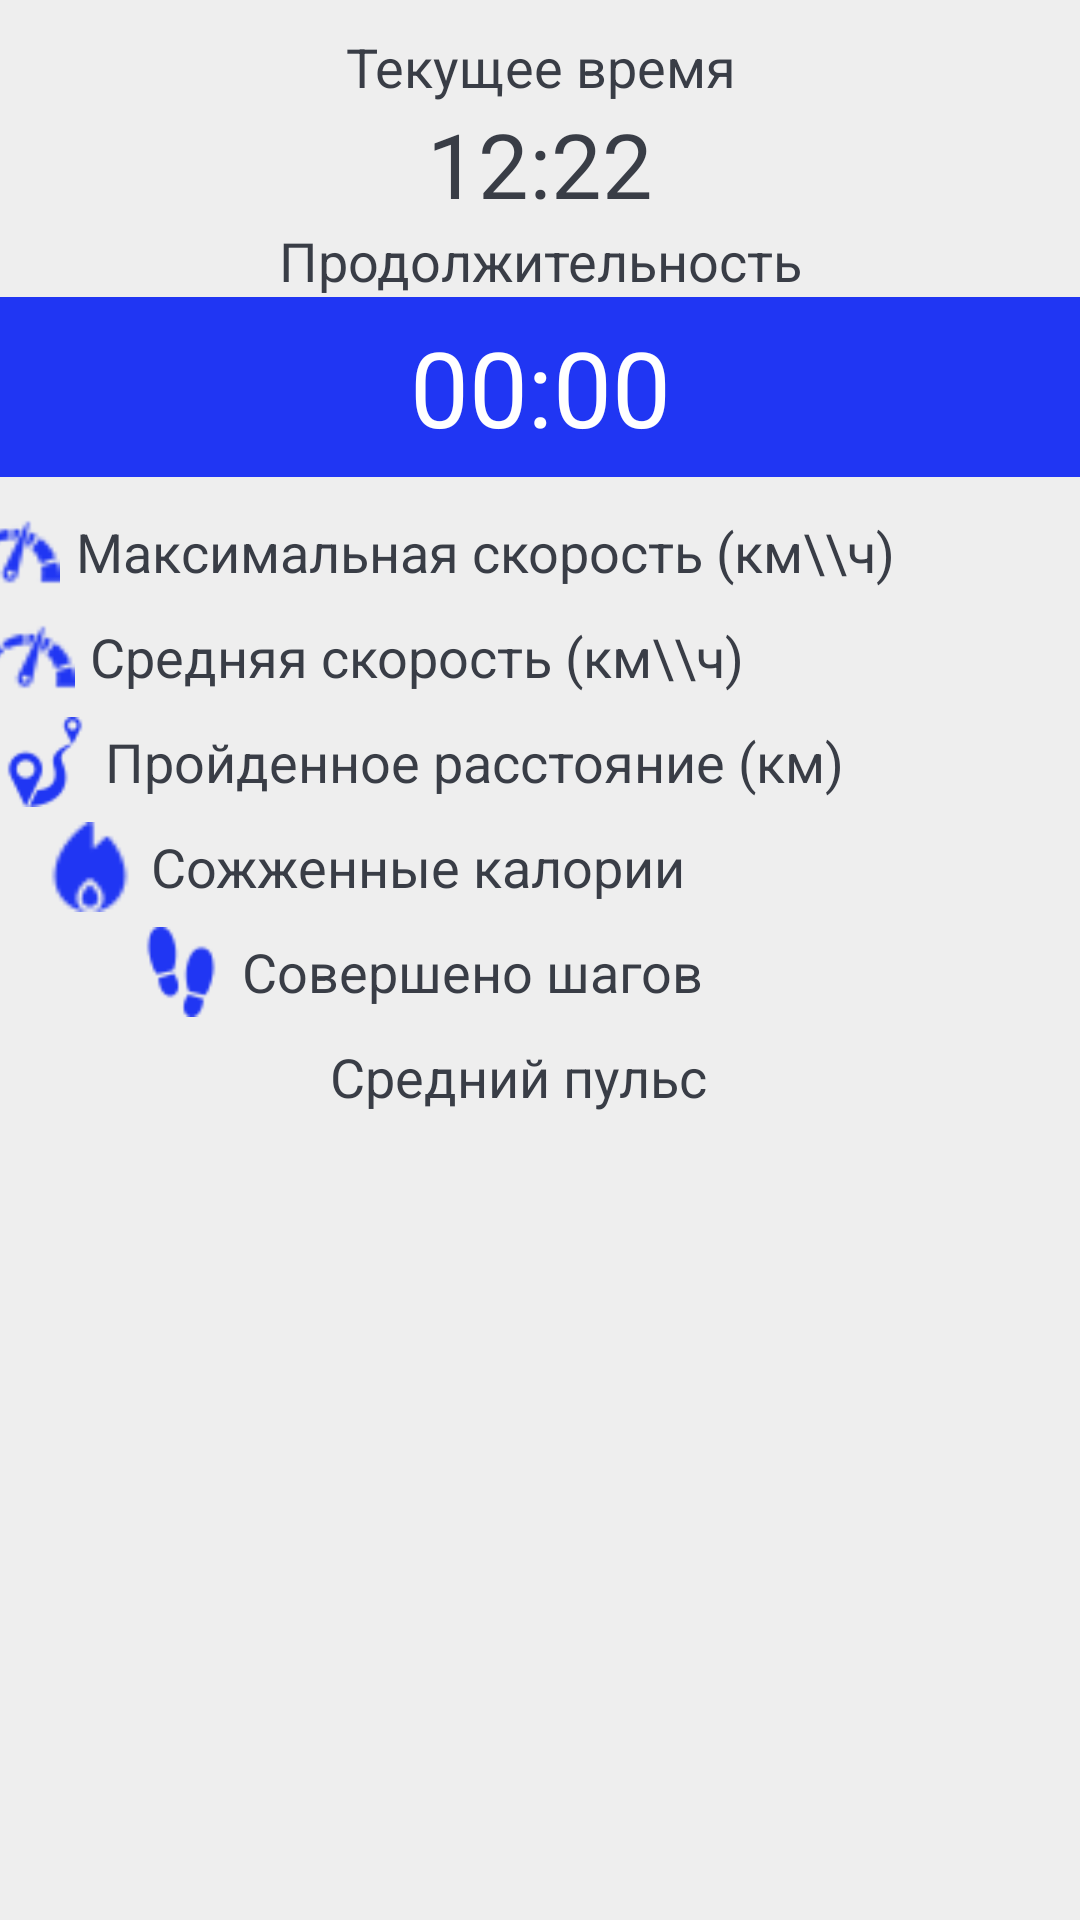

Where to tap for icons on this 1080 x 1920 app screen, as (x=x, y=y):
calories: (x=90, y=867)
distance: (x=45, y=762)
steps: (x=181, y=972)
